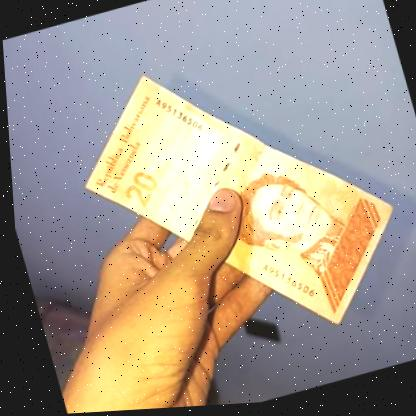twenty-front-vef: (54, 22, 416, 385)
